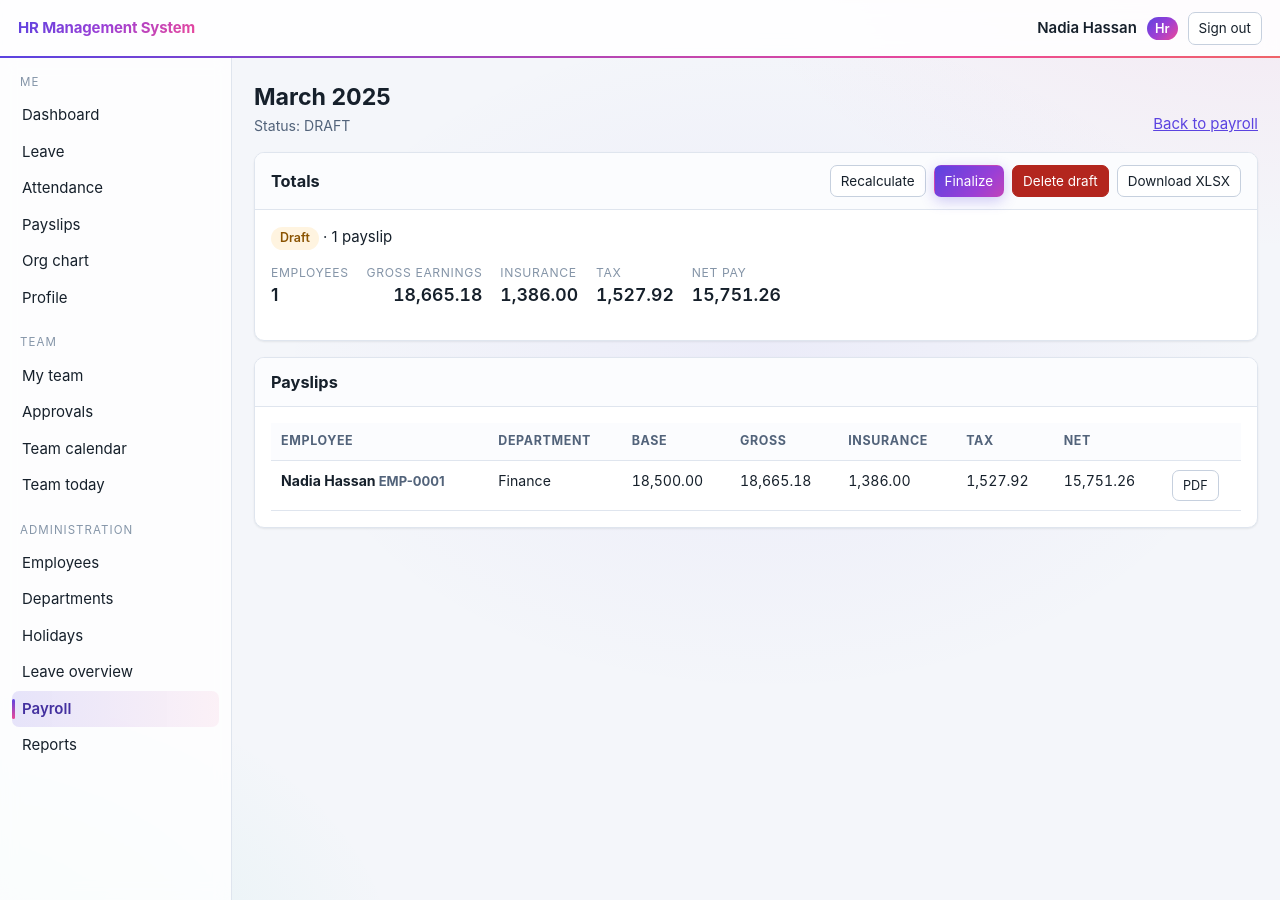
Test: payroll run detail › deletes the draft after confirmation and returns to the payroll list
Click the button "Delete draft" at (1060, 181), box [1012,165,1109,197]
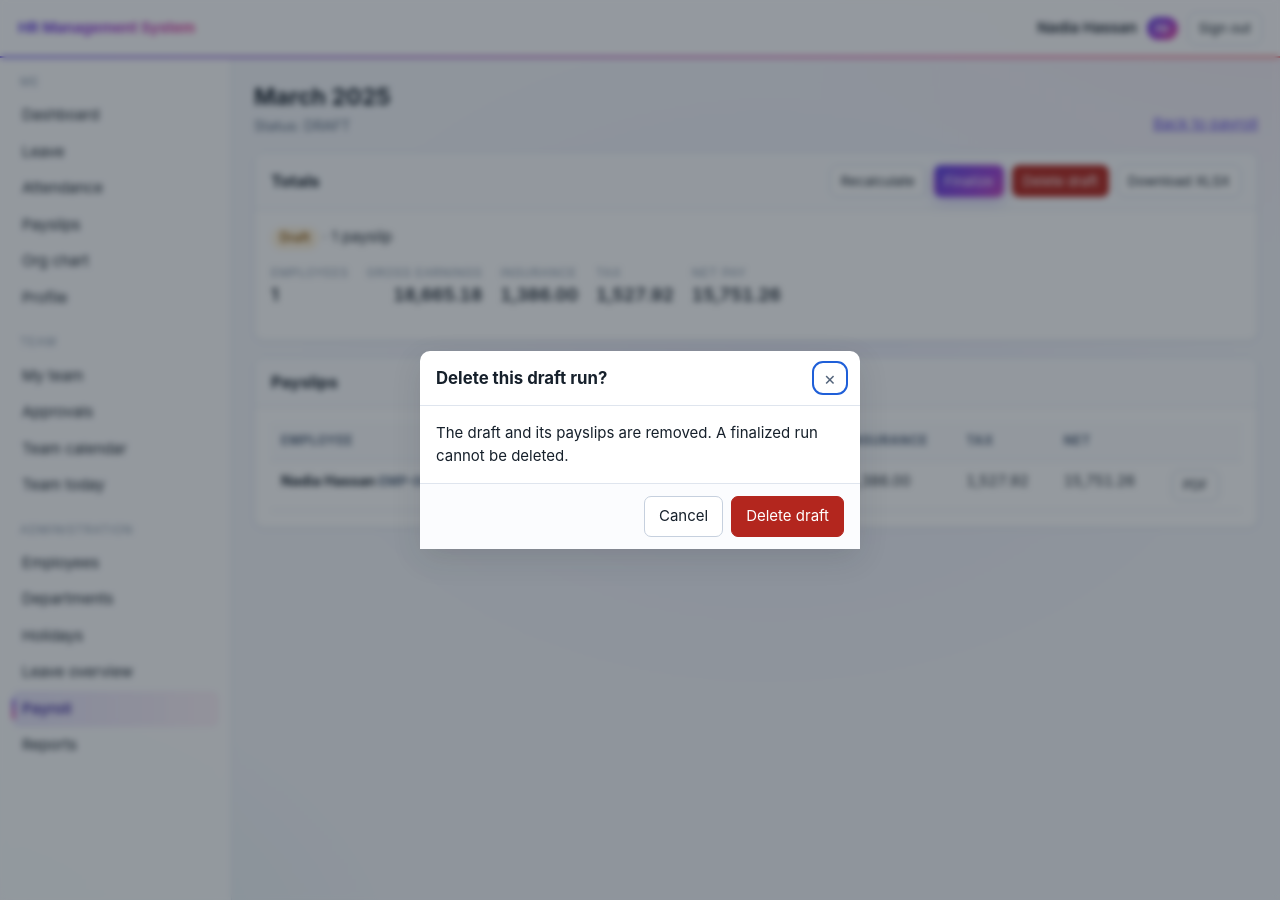
Click the button "Delete draft" at (788, 517), box [731,496,844,537]
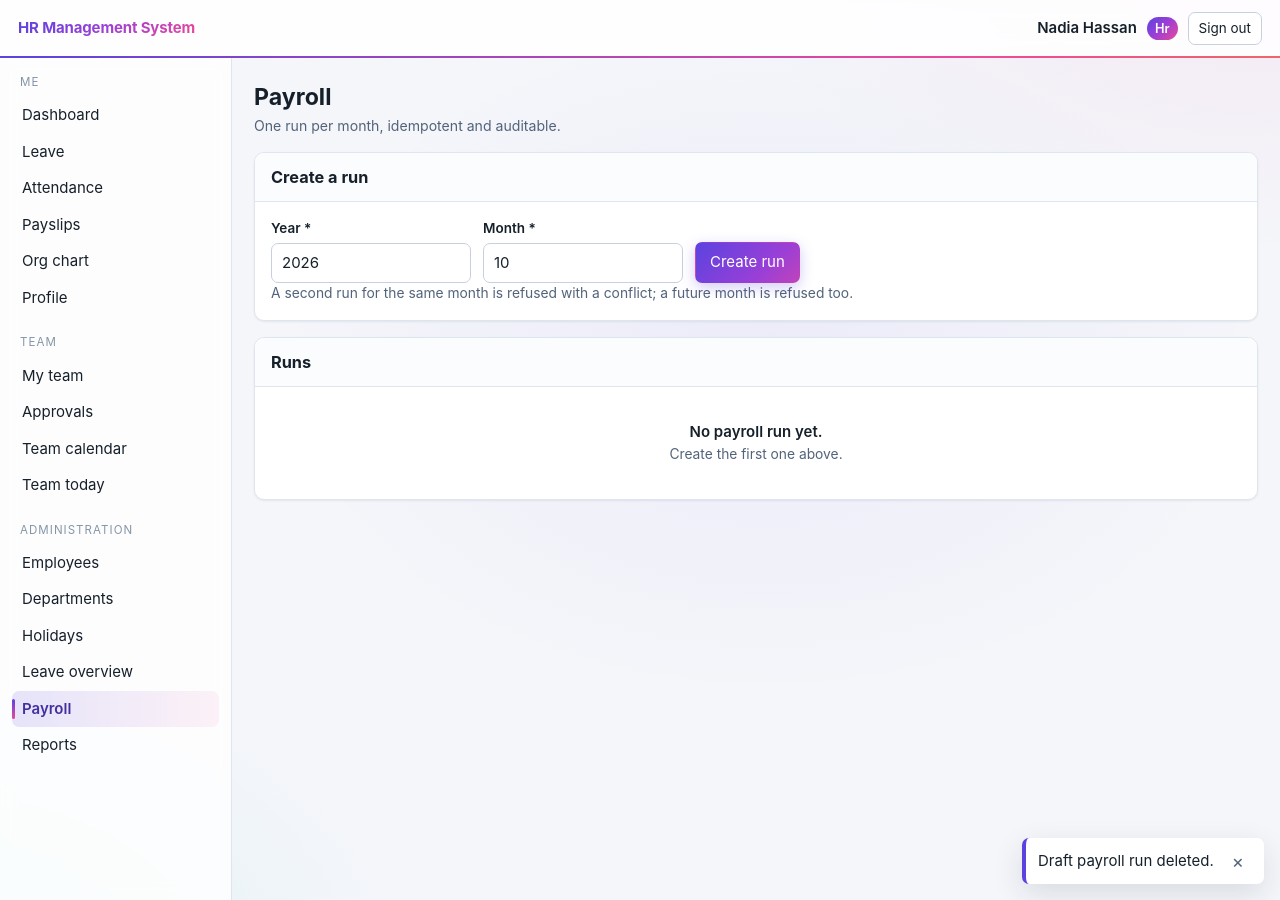
Check: the text "No payroll run yet." is shown, box [690,422,822,441]
